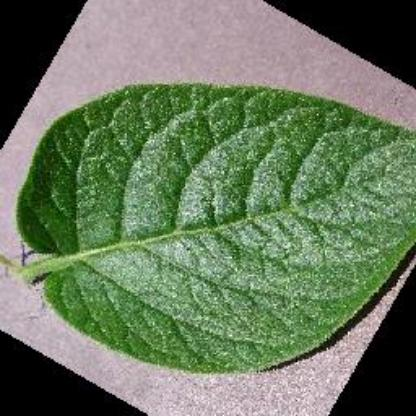Healthy-plant: (12, 73, 402, 381)
